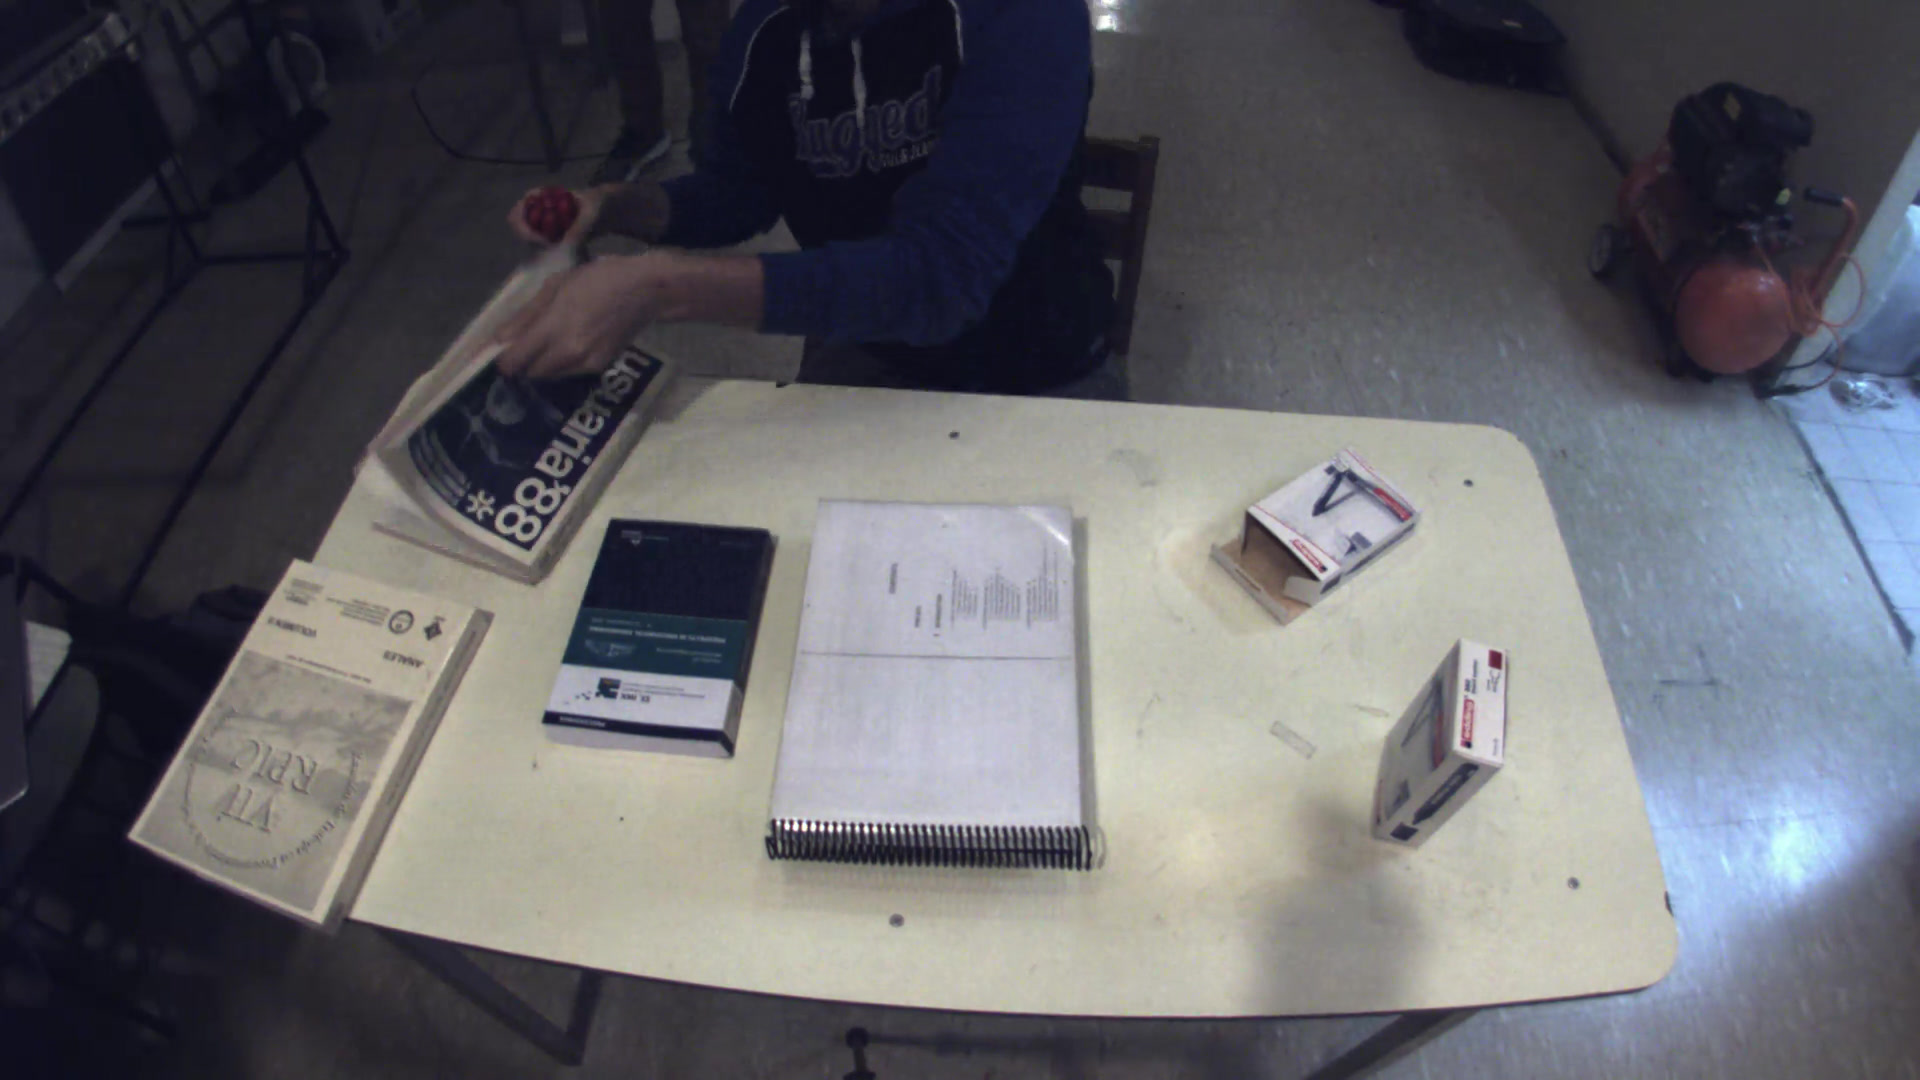hand: (443, 239, 674, 415)
